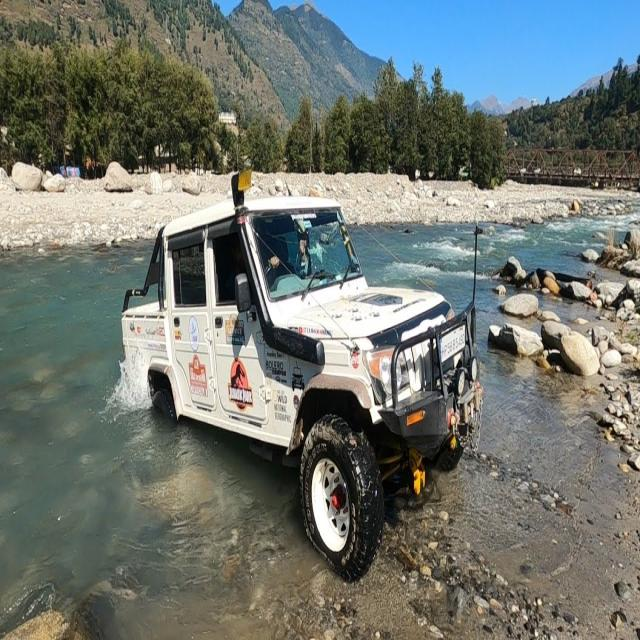light_vehicle: (78, 167, 491, 580)
